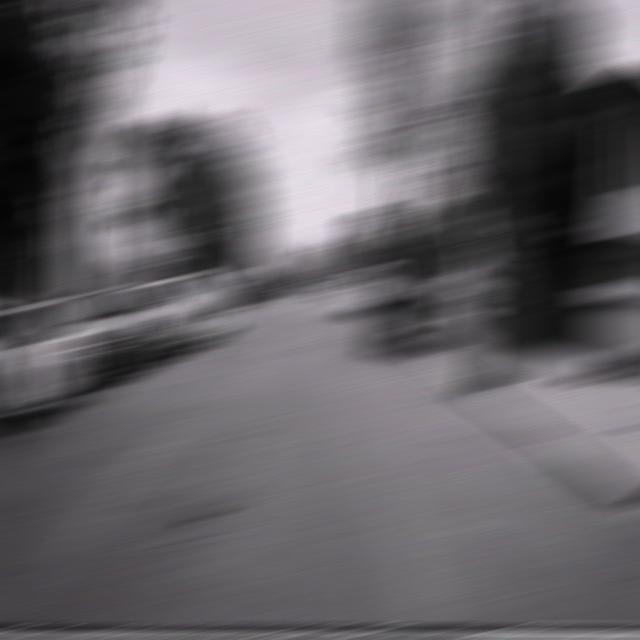doNotEnter: (146, 240, 176, 263)
stop: (377, 222, 411, 245)
